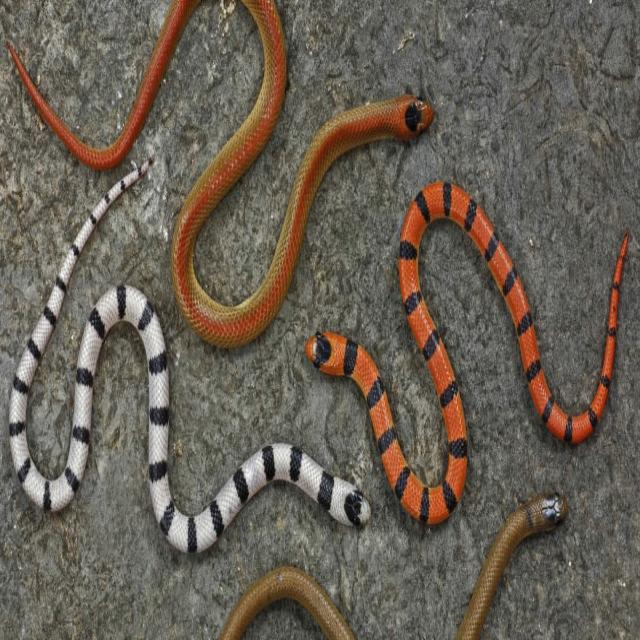snake: (11, 163, 370, 552), (306, 182, 628, 524), (172, 0, 434, 347), (456, 494, 568, 639)
